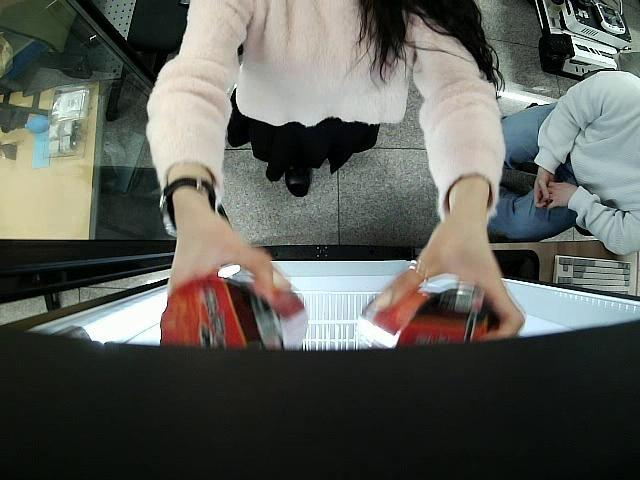02_shinRamen_S: (160, 266, 308, 356), (354, 276, 516, 352)
